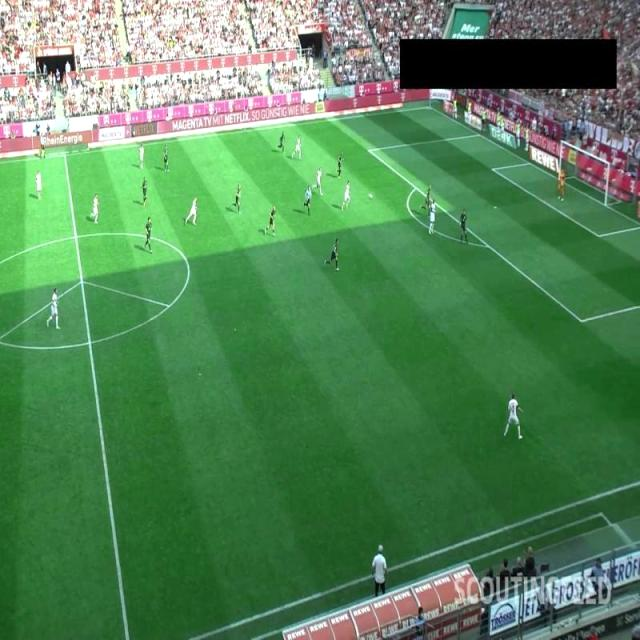bigarea_bottom_inner: (576, 314, 587, 326)
bigarea_top_inner: (364, 144, 376, 156)
bigarea_top_outter: (474, 128, 484, 139)
bottom_arc_area_intersection: (482, 240, 492, 250)
corner: (424, 100, 434, 112)
halfcircle_bottom: (84, 336, 95, 347)
halfcircle_top: (70, 230, 80, 240)
midline_top_intersection: (60, 148, 70, 159)
smallarea_bottom_inner: (594, 229, 605, 240)
smallarea_top_inner: (488, 163, 499, 174)
smallarea_top_outter: (524, 157, 535, 168)
top_arc_area_intersection: (410, 181, 420, 192)
